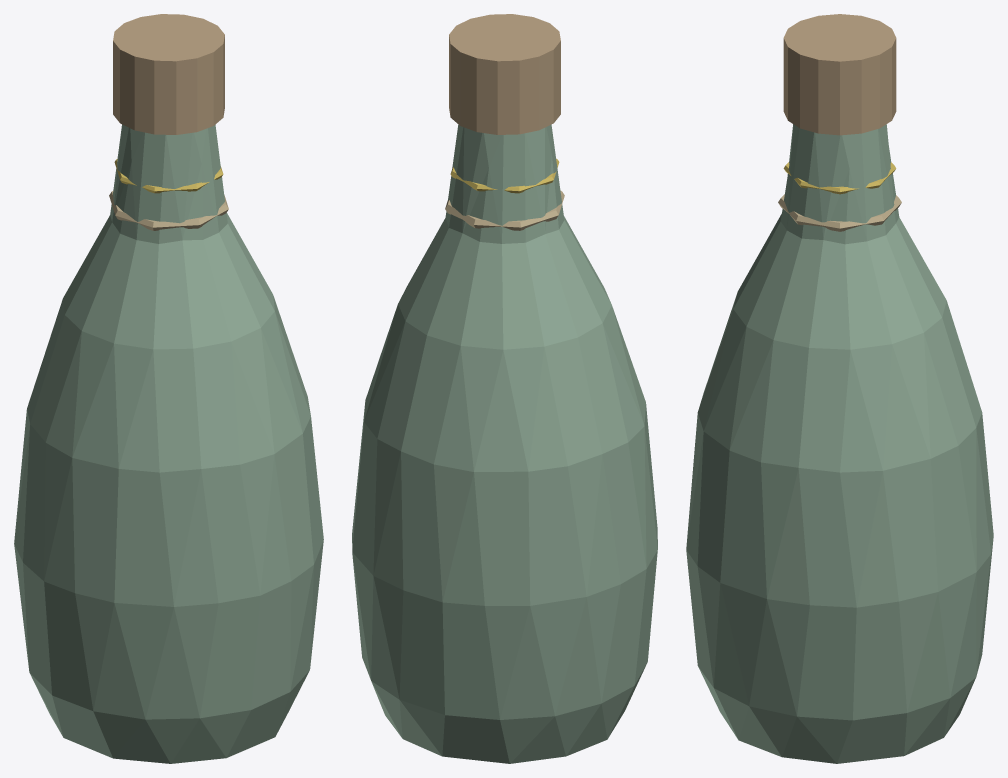
The model's file is grotto_pirate_water_bottle_LOD0_roblox.fbx.
3 views of the same model, side by side, from view 1: azimuth 30°, elevation 25°; view 2: azimuth 150°, elevation 25°; view 3: azimuth 270°, elevation 25° (orthographic).
Visible parts, largest first — view 1: bottle_Glass, bottle_Cork, bottle_RopeWrap, bottle_BrassBand; view 2: bottle_Glass, bottle_Cork, bottle_RopeWrap, bottle_BrassBand; view 3: bottle_Glass, bottle_Cork, bottle_RopeWrap, bottle_BrassBand.
Boxes of the visible parts, <box> form: bottle_Glass: <box>14,124,323,763</box>; bottle_Cork: <box>113,14,224,134</box>; bottle_RopeWrap: <box>109,191,228,230</box>; bottle_BrassBand: <box>114,159,223,193</box>; bottle_Glass: <box>352,124,657,763</box>; bottle_Cork: <box>449,14,560,134</box>; bottle_RopeWrap: <box>445,190,564,230</box>; bottle_BrassBand: <box>450,158,559,193</box>; bottle_Glass: <box>686,124,993,763</box>; bottle_Cork: <box>783,14,896,135</box>; bottle_RopeWrap: <box>778,194,901,231</box>; bottle_BrassBand: <box>783,162,896,194</box>.
Size of the model in its own units: 0.491 by 0.491 by 1.19.
